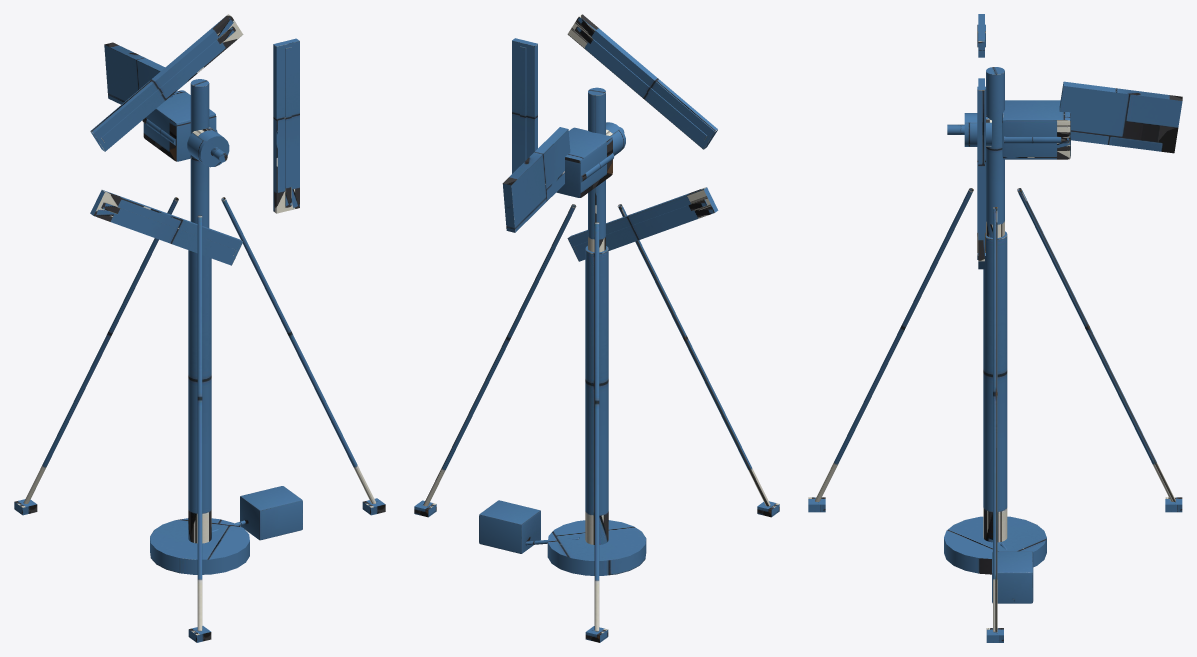
File: DD_wind_generator.glb
3 renders of one model, left to right at view 1: azimuth 30°, elevation 25°; view 2: azimuth 150°, elevation 25°; view 3: azimuth 270°, elevation 25°, orthographic. The views are drawn at different scales.
Visible parts, largest first — view 1: DD_wind_generator; view 2: DD_wind_generator; view 3: DD_wind_generator.
Boxes of the visible parts, bbox=[...] form: DD_wind_generator: bbox=[14, 14, 385, 642]; DD_wind_generator: bbox=[414, 14, 779, 642]; DD_wind_generator: bbox=[808, 14, 1182, 642].
Bounding box in the file's own units: 2.04 × 3.54 × 2.18.
Materials: 1 (1 with a texture image).
